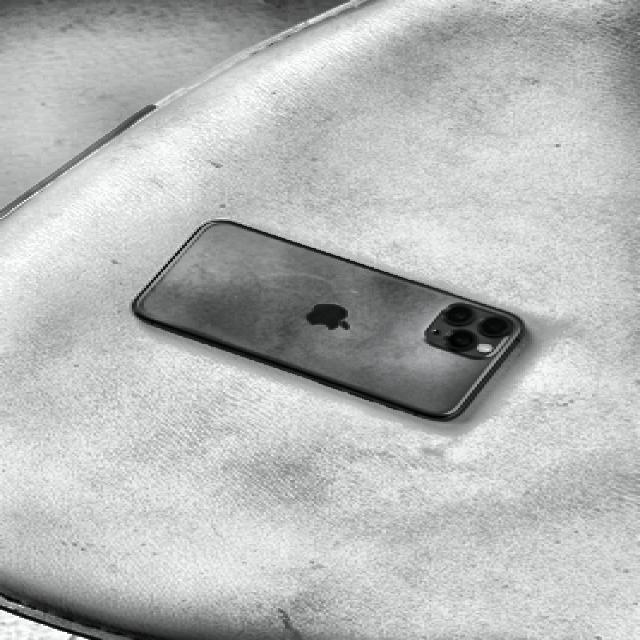Phone: (130, 219, 532, 424)
